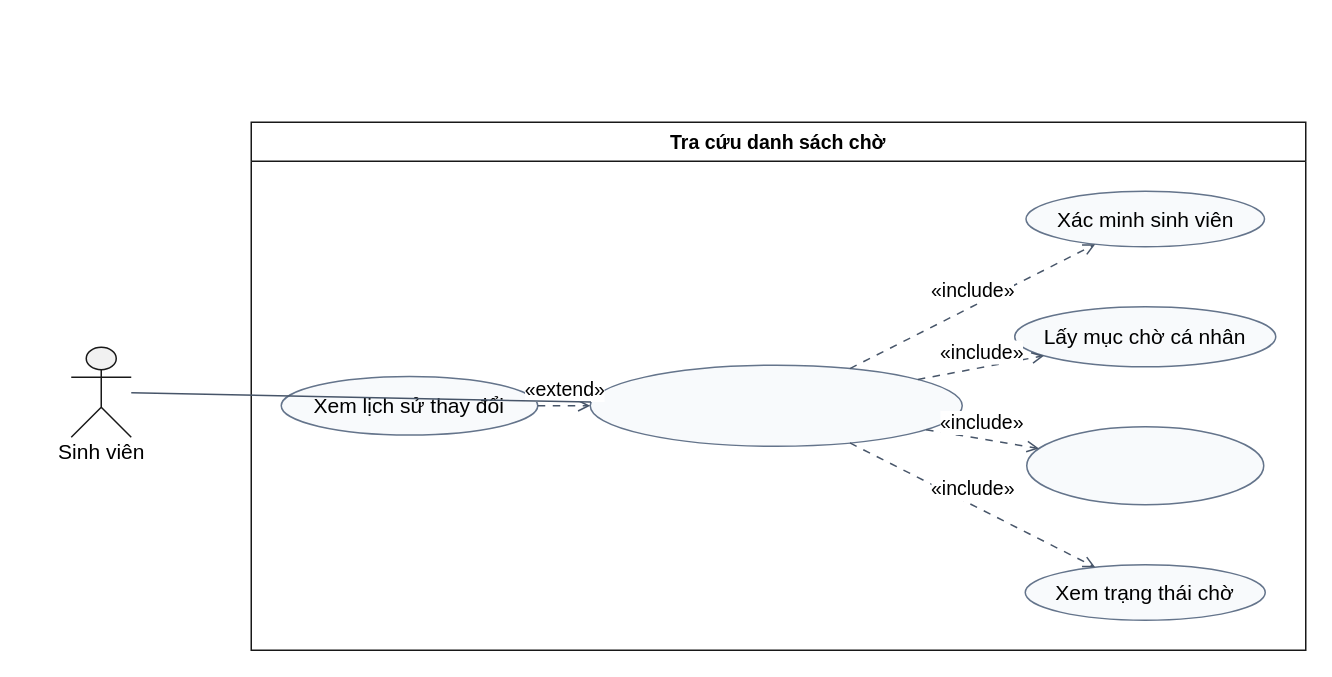
This 1332x677 diagram has some shape labels left out. Each missing label, with the centre of its shape:
"UC06 Xem vị trí danh sách chờ" belongs at (775,405).
"Xác định vị trí trong vòng xét" belongs at (1144,465).
